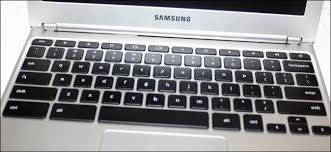keyboard: (3, 1, 327, 152)
